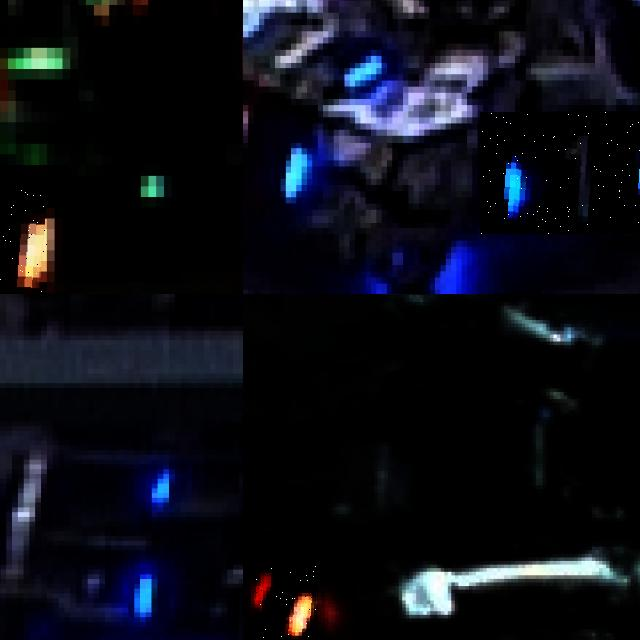B1: (480, 111, 640, 234), (116, 540, 243, 640), (243, 0, 387, 86), (243, 86, 317, 209), (134, 454, 243, 526)
Rs: (0, 186, 46, 294), (254, 564, 317, 640)
